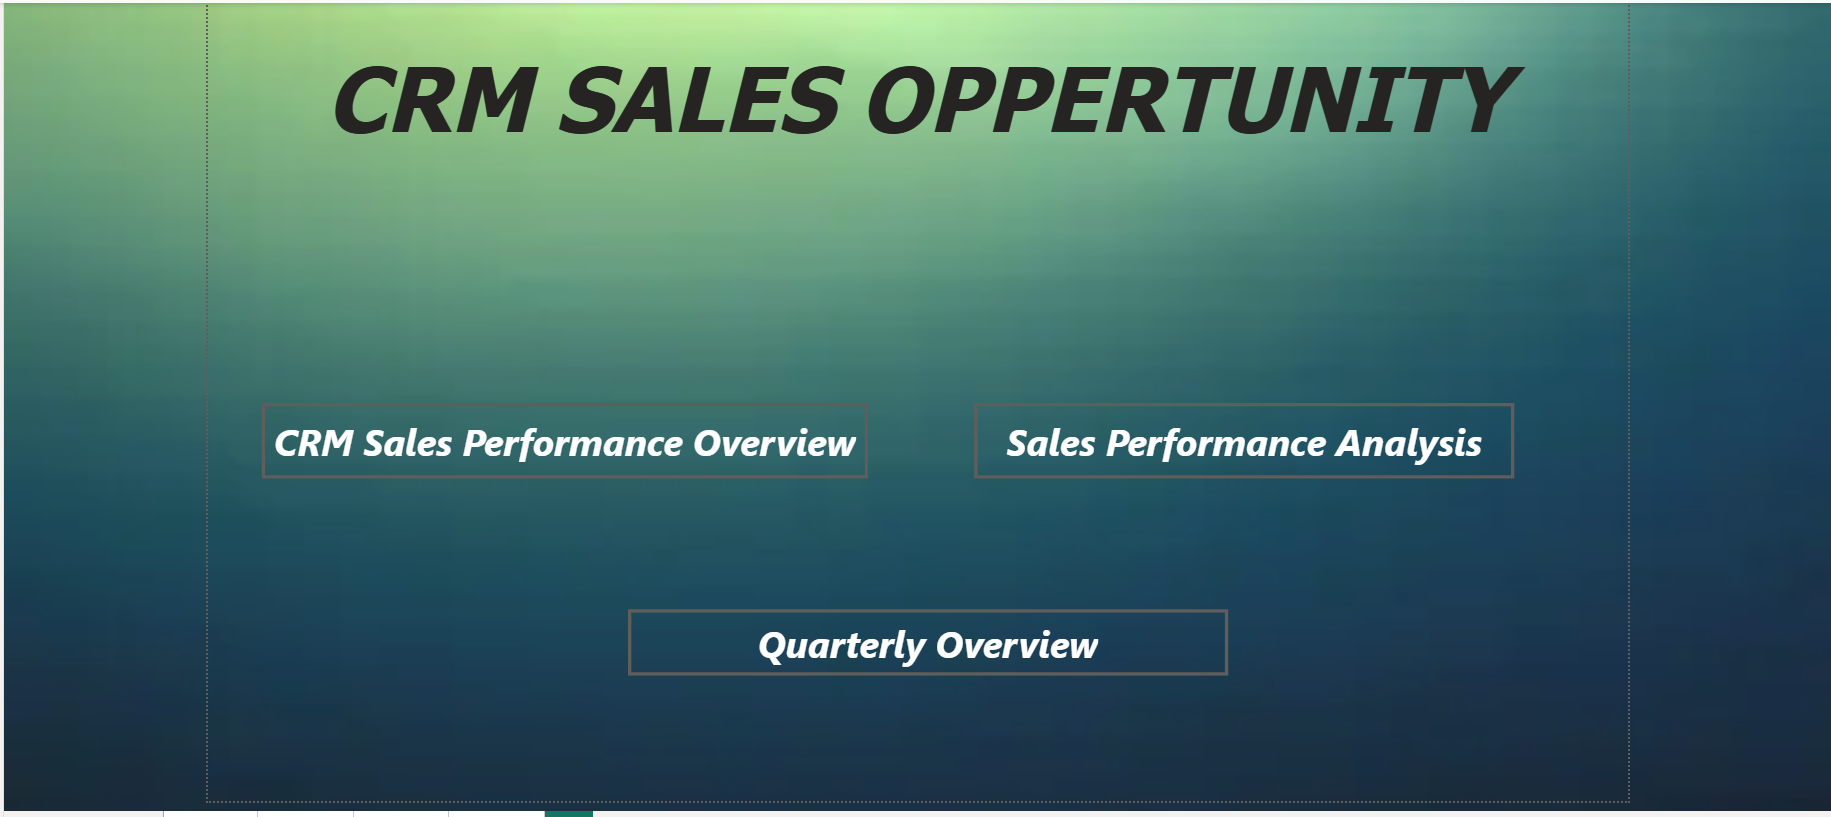

What the dashboard file says about the page in this screenshot:
{"tool":"powerbi","page":{"name":"Page 1","canvas":[1280,720],"ordinal":0},"visuals":[{"type":"textbox","box":[10,31.4,1258.6,248.6],"z":0},{"type":"actionButton","box":[691.5,360.3,487,68.2],"z":1000},{"type":"actionButton","box":[48.7,360.3,546.8,68.2],"z":2000},{"type":"actionButton","box":[378.4,546.8,541.2,59.8],"z":3000}]}

Visuals, with their boxes on the page's 1280x720 design canvas (x1, y1, x2, y2). These are canvas units, not pixel positions in the 1831x817 screenshot, which may show the page scaled, cropped or inside an application window:
textbox: <region>10, 31, 1269, 280</region>
actionButton: <region>692, 360, 1178, 428</region>
actionButton: <region>49, 360, 596, 428</region>
actionButton: <region>378, 547, 920, 607</region>
